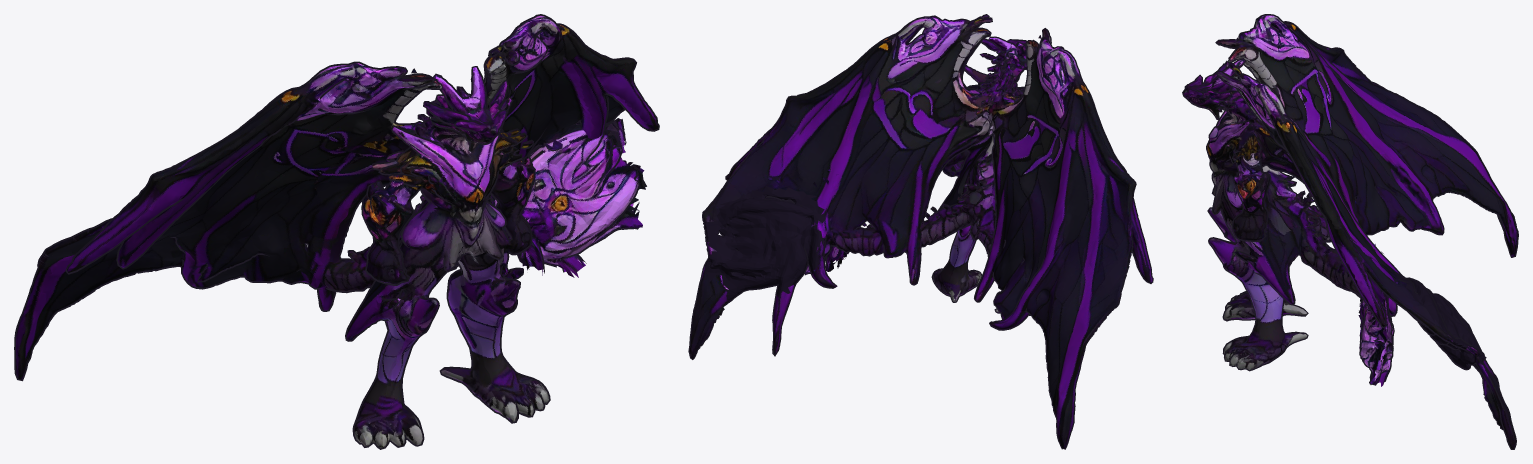
The model's file is monster.glb.
3 views of the same model, side by side, from view 1: azimuth 30°, elevation 25°; view 2: azimuth 150°, elevation 25°; view 3: azimuth 270°, elevation 25° (orthographic). The views are drawn at different scales.
Visible parts, largest first — view 1: body, tail-mesh (×2), head-mesh (×2); view 2: body, tail-mesh, head-mesh (×2); view 3: body, tail-mesh (×3), head-mesh (×2).
Part boxes in pixels (bbox=[...]): body: bbox=[14, 14, 659, 449]; tail-mesh (×2): bbox=[490, 118, 646, 277]; head-mesh (×2): bbox=[419, 50, 507, 144]; body: bbox=[688, 14, 1153, 449]; tail-mesh: bbox=[825, 218, 939, 259]; head-mesh (×2): bbox=[983, 18, 1034, 90]; body: bbox=[1198, 14, 1518, 449]; tail-mesh (×3): bbox=[1325, 244, 1394, 386]; head-mesh (×2): bbox=[1182, 52, 1251, 114].
Size of the model in its own units: 2.73 by 1.75 by 1.76.
Materials: 2 (1 with a texture image).
